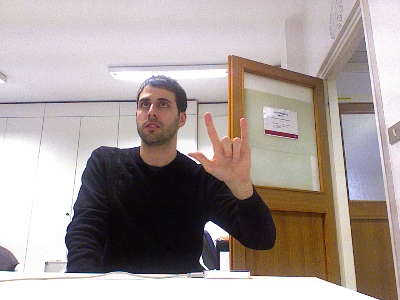我爱你: (187, 111, 251, 185)
